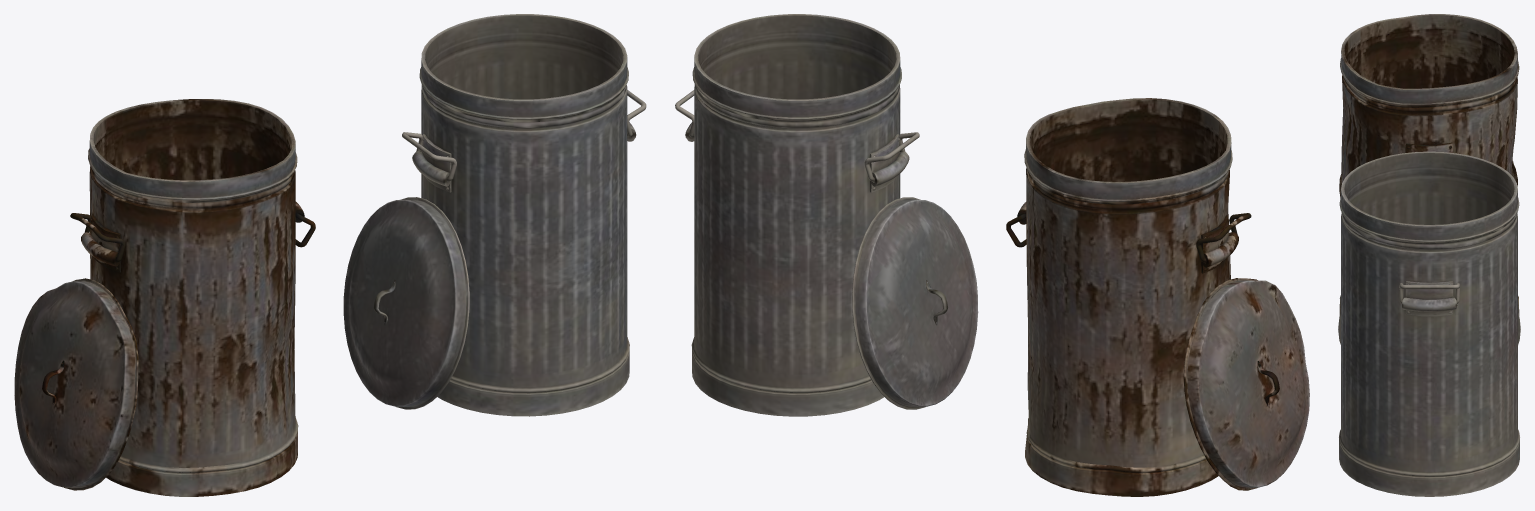
File: metal_trash_can.glb
3 views of the same model, side by side, from view 1: azimuth 30°, elevation 25°; view 2: azimuth 150°, elevation 25°; view 3: azimuth 270°, elevation 25° (orthographic). The views are drawn at different scales.
Visible parts, largest first — view 1: metal_trash_can, metal_trash_can_rust, metal_trash_can_lid, metal_trash_can_rust_lid; view 2: metal_trash_can, metal_trash_can_rust, metal_trash_can_lid, metal_trash_can_rust_lid; view 3: metal_trash_can, metal_trash_can_rust, metal_trash_can_handle_right.
Part boxes in pixels (x1,y1,x2,y2): metal_trash_can: [412, 14, 636, 416]; metal_trash_can_rust: [81, 99, 304, 496]; metal_trash_can_lid: [343, 197, 469, 409]; metal_trash_can_rust_lid: [14, 278, 138, 490]; metal_trash_can: [685, 14, 909, 416]; metal_trash_can_rust: [1017, 98, 1238, 496]; metal_trash_can_lid: [852, 197, 978, 409]; metal_trash_can_rust_lid: [1183, 278, 1309, 490]; metal_trash_can: [1339, 151, 1519, 496]; metal_trash_can_rust: [1339, 14, 1519, 316]; metal_trash_can_handle_right: [1399, 283, 1459, 303].
Bounding box in the file's own units: 1.78 × 0.9062 × 0.5563.
Materials: 3 (3 with a texture image).
